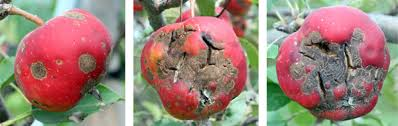damaged_apple: (277, 11, 389, 116), (138, 20, 250, 121), (11, 16, 116, 109)
